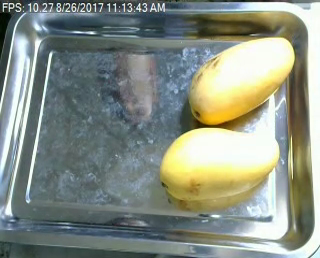Mango: (184, 33, 299, 124), (161, 125, 280, 205)
